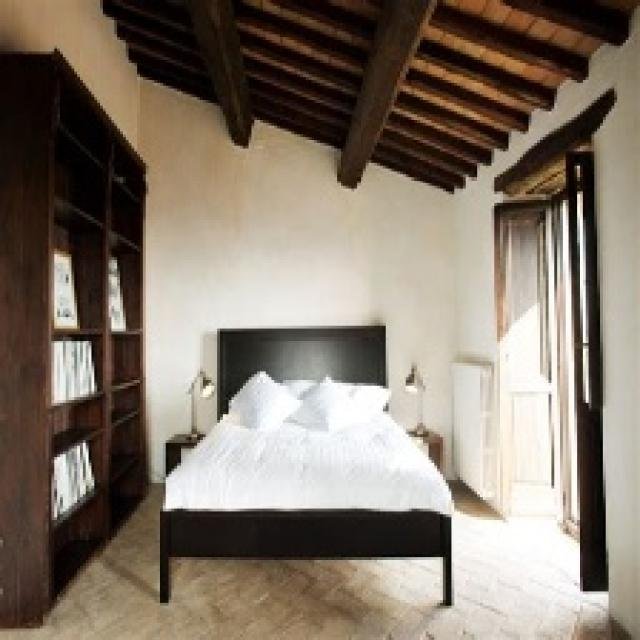Bed: (157, 323, 454, 606)
